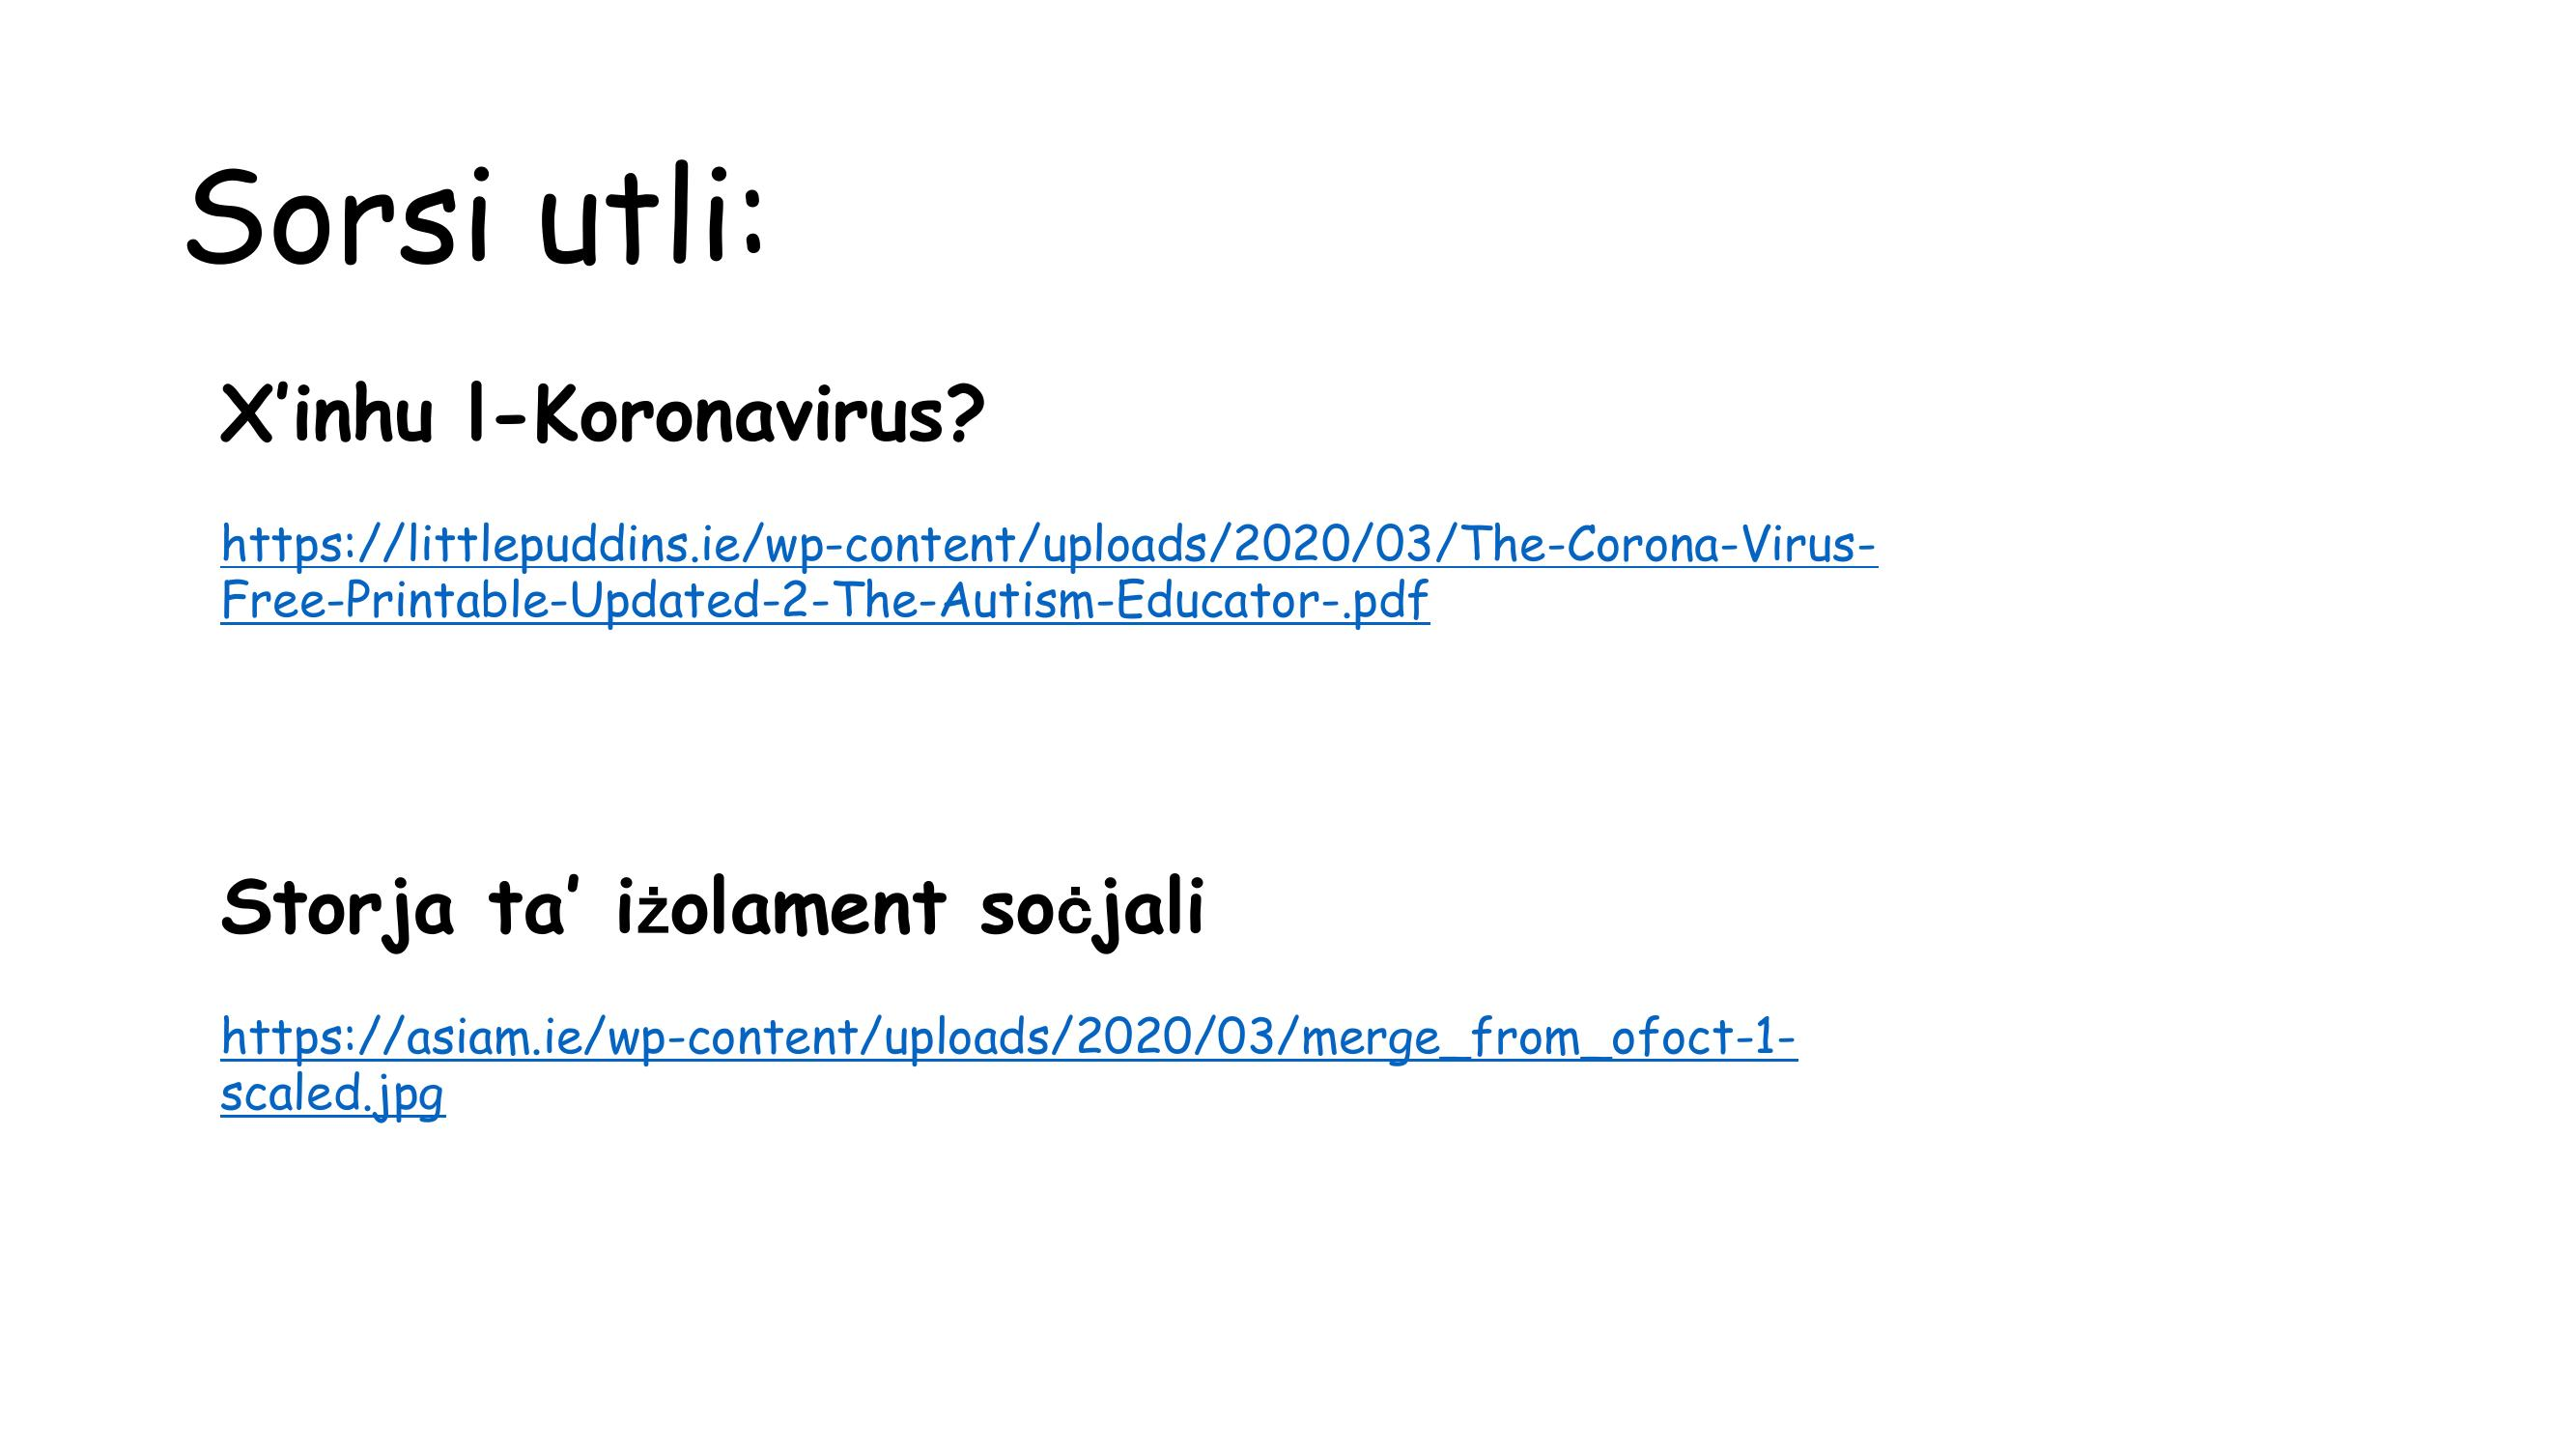text: (149, 124, 1930, 1162)
